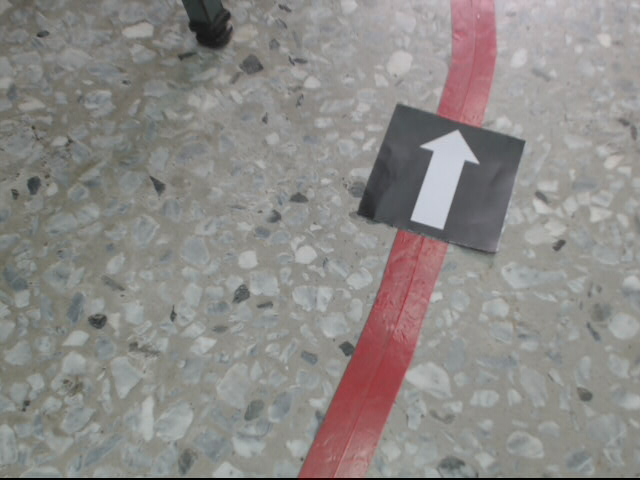straight: (356, 100, 524, 258)
